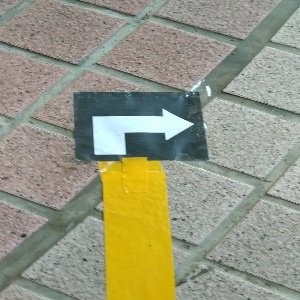right: (74, 90, 207, 162)
